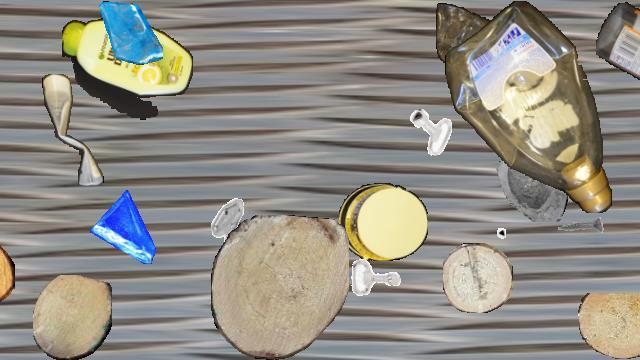glass: (481, 132, 571, 222), (90, 190, 164, 264), (99, 1, 163, 65)
metal: (345, 247, 407, 309), (197, 196, 257, 256), (553, 204, 605, 256), (456, 199, 506, 249), (407, 107, 455, 155)
plastic: (445, 1, 613, 213), (62, 18, 192, 120), (42, 74, 104, 186), (339, 183, 427, 261), (596, 1, 640, 129), (436, 1, 510, 71)
wood: (211, 215, 349, 359), (33, 275, 111, 359), (443, 243, 513, 313), (578, 293, 640, 359), (0, 241, 14, 305)
